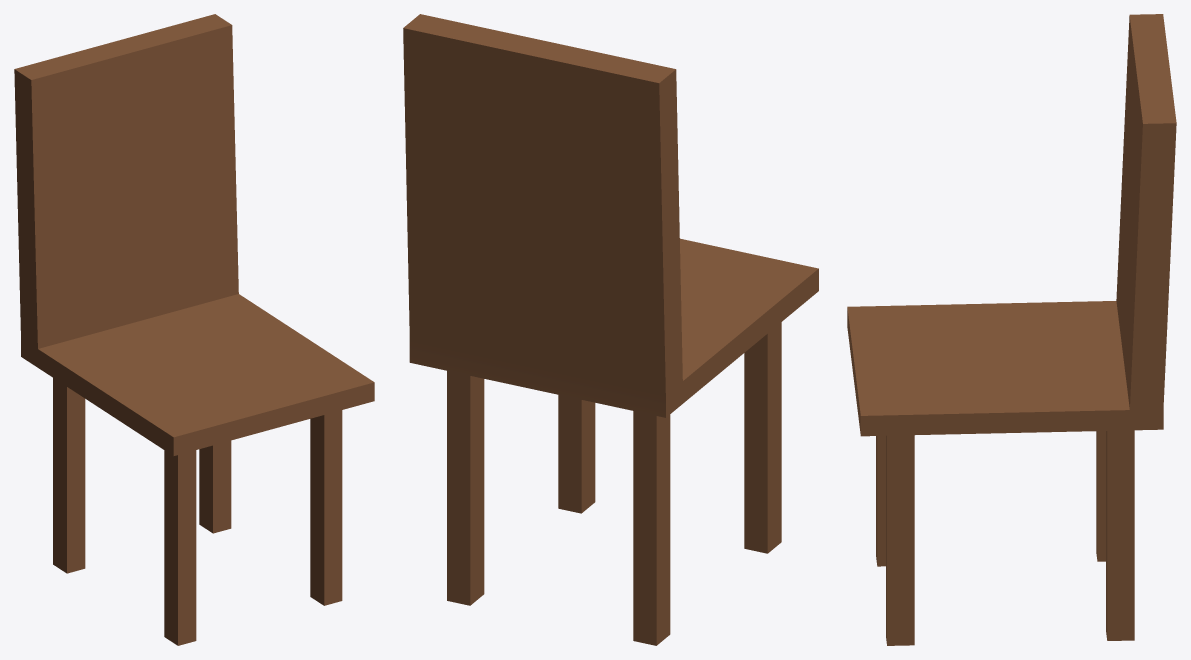
File: SillaSimple.fbx
3 renders of one model, left to right at view 1: azimuth 30°, elevation 25°; view 2: azimuth 150°, elevation 25°; view 3: azimuth 270°, elevation 25°, orthographic. The views are drawn at different scales.
Visible parts, largest first — view 1: pCube147; view 2: pCube147; view 3: pCube147.
Boxes of the visible parts, x1,y1,x2,y2 form: pCube147: (14, 14, 374, 645); pCube147: (403, 14, 818, 645); pCube147: (847, 14, 1176, 645).
Bounding box in the file's own units: 2.16 × 4.57 × 2.59.
